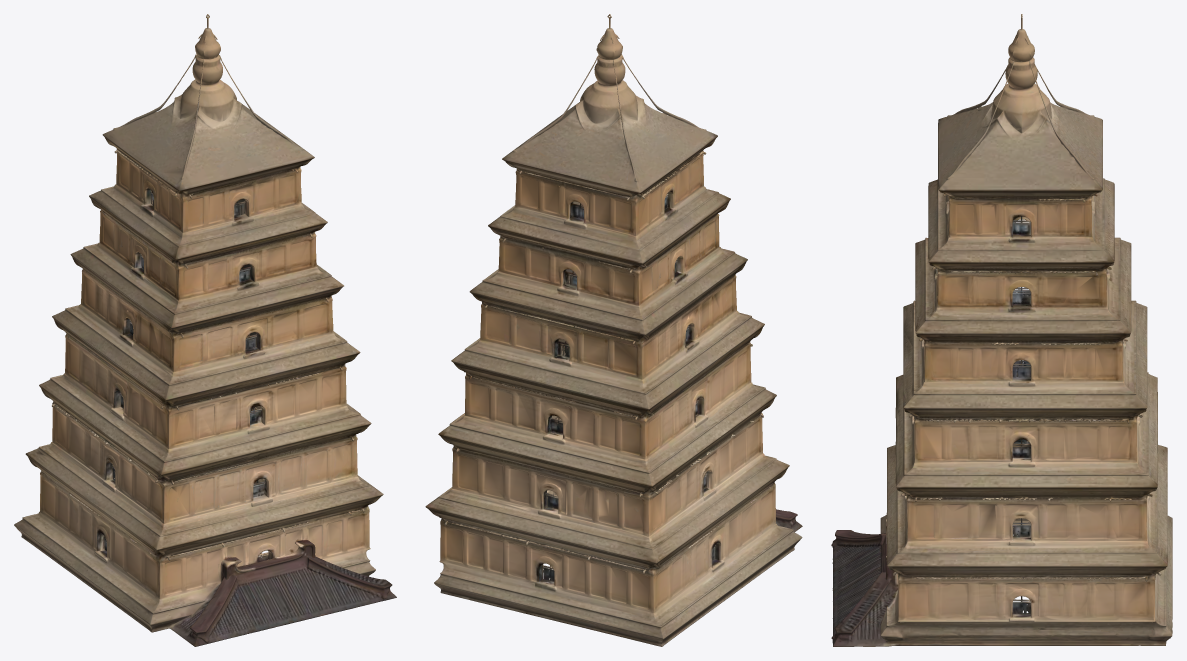
File: dayanta.glb
3 renders of one model, left to right at view 1: azimuth 30°, elevation 25°; view 2: azimuth 150°, elevation 25°; view 3: azimuth 270°, elevation 25°, orthographic. The views are drawn at different scales.
Parts seen in each view (by area): view 1: node_0; view 2: node_0; view 3: node_0.
Boxes of the visible parts, x1,y1,x2,y2 form: node_0: (14,14,396,646); node_0: (425,14,802,646); node_0: (831,14,1172,646).
Size of the model in its own units: 0.4548 by 0.998 by 0.5315.
1 material, 1 textured.
